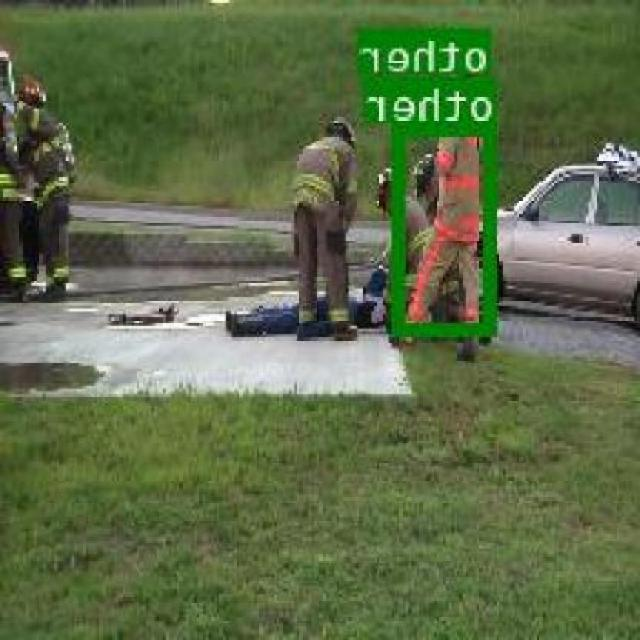other: (396, 122, 499, 333), (442, 27, 493, 58)
